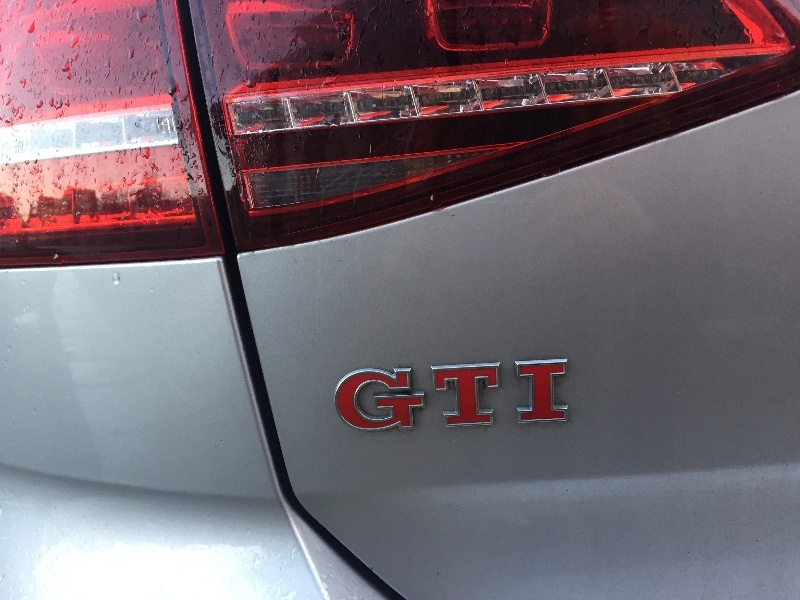text: (337, 359, 352, 434), (353, 359, 368, 434), (369, 359, 384, 434), (385, 359, 400, 434), (401, 359, 416, 434), (417, 359, 432, 434), (433, 359, 448, 434), (449, 359, 464, 434), (465, 359, 480, 434), (481, 359, 496, 434), (497, 359, 512, 434), (513, 359, 528, 434), (529, 359, 544, 434), (545, 359, 560, 434), (561, 359, 568, 434), (335, 359, 336, 434)
